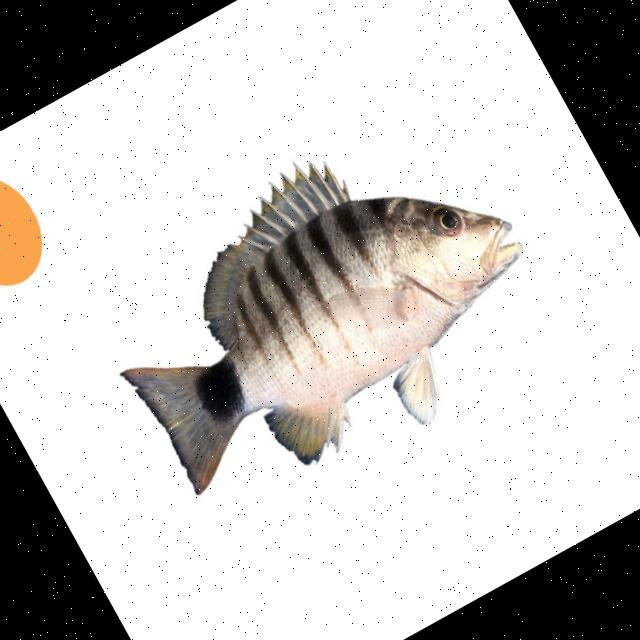ikan: (70, 82, 578, 544)
